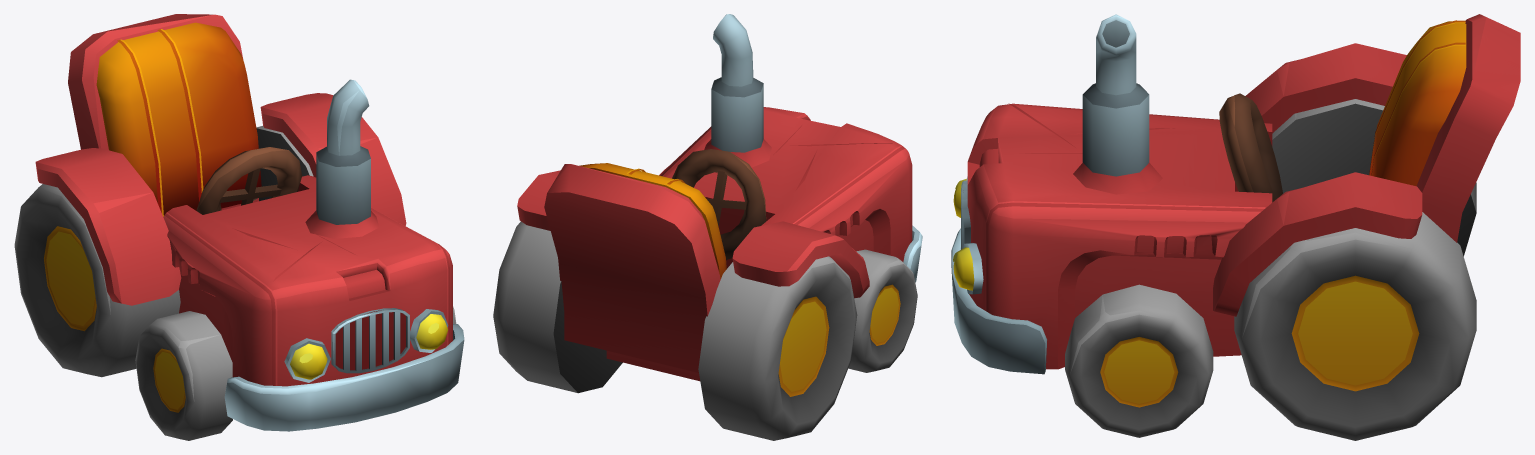
File: truck.fbx
3 renders of one model, left to right at view 1: azimuth 30°, elevation 25°; view 2: azimuth 150°, elevation 25°; view 3: azimuth 270°, elevation 25°, orthographic. The views are drawn at different scales.
Visible parts, largest first — view 1: truck, truckwheel.001, truckwheel.007, trucktorus; view 2: truck, truckwheel.001, truckwheel.007, trucktorus; view 3: truck, truckwheel.001, truckwheel.008, trucktorus.
Boxes of the visible parts, x1,y1,x2,y2 form: truck: (35, 14, 464, 431); truckwheel.001: (14, 126, 313, 377); truckwheel.007: (135, 311, 232, 440); trucktorus: (196, 147, 301, 214); truck: (517, 14, 922, 381); truckwheel.001: (493, 221, 857, 440); truckwheel.007: (848, 249, 917, 372); trucktorus: (672, 149, 766, 259); truck: (951, 14, 1520, 374); truckwheel.001: (1234, 99, 1476, 440); truckwheel.008: (1065, 284, 1213, 437); trucktorus: (1219, 93, 1282, 202).
Bounding box in the file's own units: 170 × 178 × 242.
Materials: 1 (1 with a texture image).
